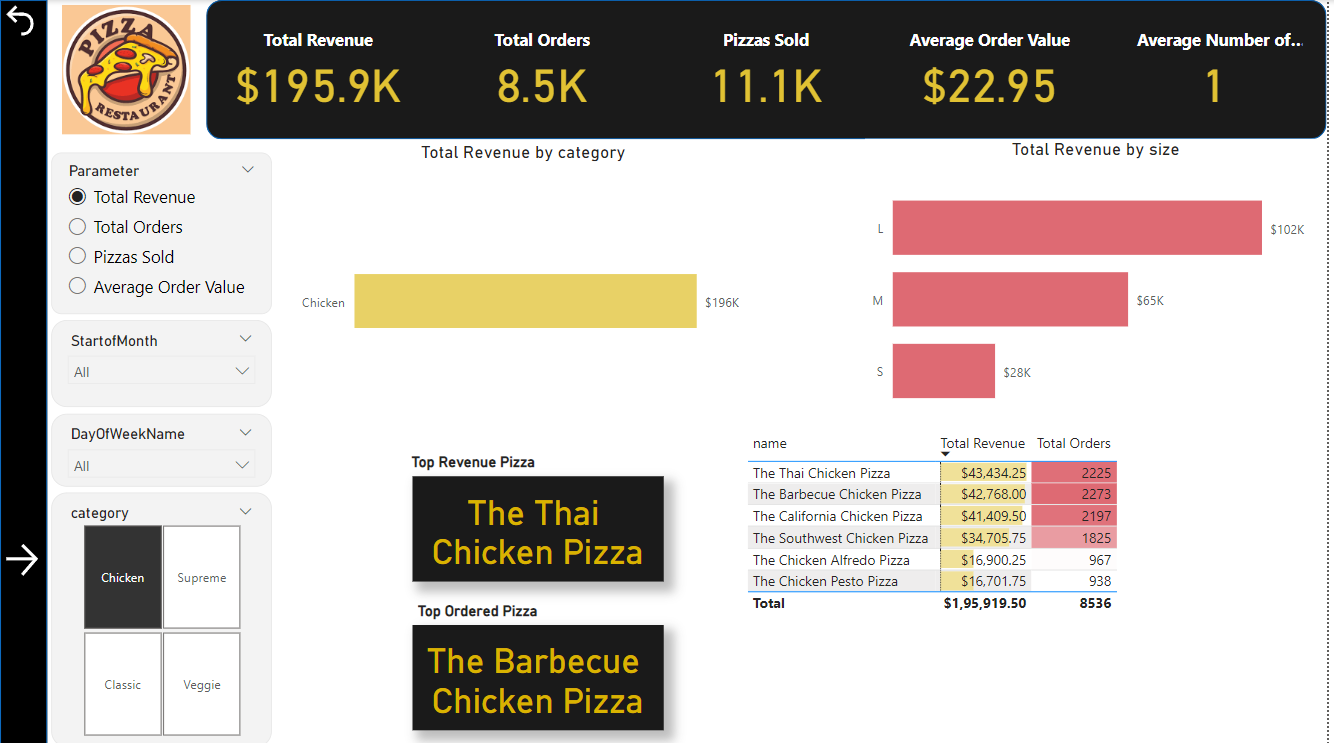

What the dashboard file says about the page in this screenshot:
{"tool":"powerbi","page":{"name":"Dashboards","canvas":[1280,720],"ordinal":0},"visuals":[{"type":"shape","box":[198.9,0,1080.6,134.4],"z":0},{"type":"shape","box":[0,0,45.6,720.6],"z":1000},{"type":"cardVisual","fields":{"Data":["Measures Table.Total Revenue","Measures Table.Pizzas Sold","Measures Table.Pizzas Sold1","Measures Table.Average Order Value","Measures Table.Average Number of Pizzas Per Order"]},"box":[198.9,0,1080.6,134.4],"z":2000},{"type":"image","box":[45.2,0,153.8,134.4],"z":3000},{"type":"clusteredBarChart","fields":{"Y":["Measures Table.Total Revenue"],"Category":["pizza_types.category"]},"box":[282.8,135.9,445.3,284.4],"z":4000},{"type":"clusteredBarChart","fields":{"Y":["Measures Table.Total Revenue"],"Category":["pizzas.size"]},"box":[834.4,134.4,445.3,285.9],"z":5000},{"type":"card","fields":{"Values":["Min(pizza_types.name)"]},"box":[398.4,459.4,242.2,101.6],"z":6000},{"type":"textbox","box":[392.2,431.2,228.1,28.1],"z":7000},{"type":"card","fields":{"Values":["Min(pizza_types.name)"]},"box":[398.4,603.1,242.2,101.6],"z":8000},{"type":"textbox","box":[398.4,575,228.1,28.1],"z":9000},{"type":"slicer","fields":{"Values":["Calendar.StartofMonth"]},"box":[50,308.9,212.5,84.4],"z":10000},{"type":"tableEx","fields":{"Values":["pizza_types.name","Measures Table.Total Revenue","Measures Table.Total Orders"]},"box":[715.6,410.9,500,298.4],"z":11000},{"type":"actionButton","box":[0,0,44.7,39.5],"z":12000},{"type":"slicer","fields":{"Values":["Calendar.DayOfWeekName"]},"box":[50,399,212.5,70.3],"z":13000},{"type":"slicer","fields":{"Values":["pizza_types.category"]},"box":[50,474.7,212.5,245.3],"z":14000},{"type":"slicer","fields":{"Values":["Parameter.Parameter"]},"box":[50,146.9,212.5,156.2],"z":15000},{"type":"actionButton","box":[0,519.4,44.6,40.4],"z":16000}]}

Visuals, with their boxes on the page's 1280x720 design canvas (x1, y1, x2, y2). These are canvas units, not pixel positions in the 1334x743 screenshot, which may show the page scaled, cropped or inside an application window:
shape: pyautogui.locateOnScreen(199, 0, 1280, 134)
shape: pyautogui.locateOnScreen(0, 0, 46, 721)
cardVisual - Measures Table.Total Revenue x Measures Table.Pizzas Sold: pyautogui.locateOnScreen(199, 0, 1280, 134)
image: pyautogui.locateOnScreen(45, 0, 199, 134)
clusteredBarChart - Measures Table.Total Revenue x pizza_types.category: pyautogui.locateOnScreen(283, 136, 728, 420)
clusteredBarChart - Measures Table.Total Revenue x pizzas.size: pyautogui.locateOnScreen(834, 134, 1280, 420)
card - Min(pizza_types.name): pyautogui.locateOnScreen(398, 459, 641, 561)
textbox: pyautogui.locateOnScreen(392, 431, 620, 459)
card - Min(pizza_types.name): pyautogui.locateOnScreen(398, 603, 641, 705)
textbox: pyautogui.locateOnScreen(398, 575, 626, 603)
slicer - Calendar.StartofMonth: pyautogui.locateOnScreen(50, 309, 262, 393)
tableEx - pizza_types.name x Measures Table.Total Revenue: pyautogui.locateOnScreen(716, 411, 1216, 709)
actionButton: pyautogui.locateOnScreen(0, 0, 45, 40)
slicer - Calendar.DayOfWeekName: pyautogui.locateOnScreen(50, 399, 262, 469)
slicer - pizza_types.category: pyautogui.locateOnScreen(50, 475, 262, 720)
slicer - Parameter.Parameter: pyautogui.locateOnScreen(50, 147, 262, 303)
actionButton: pyautogui.locateOnScreen(0, 519, 45, 560)
